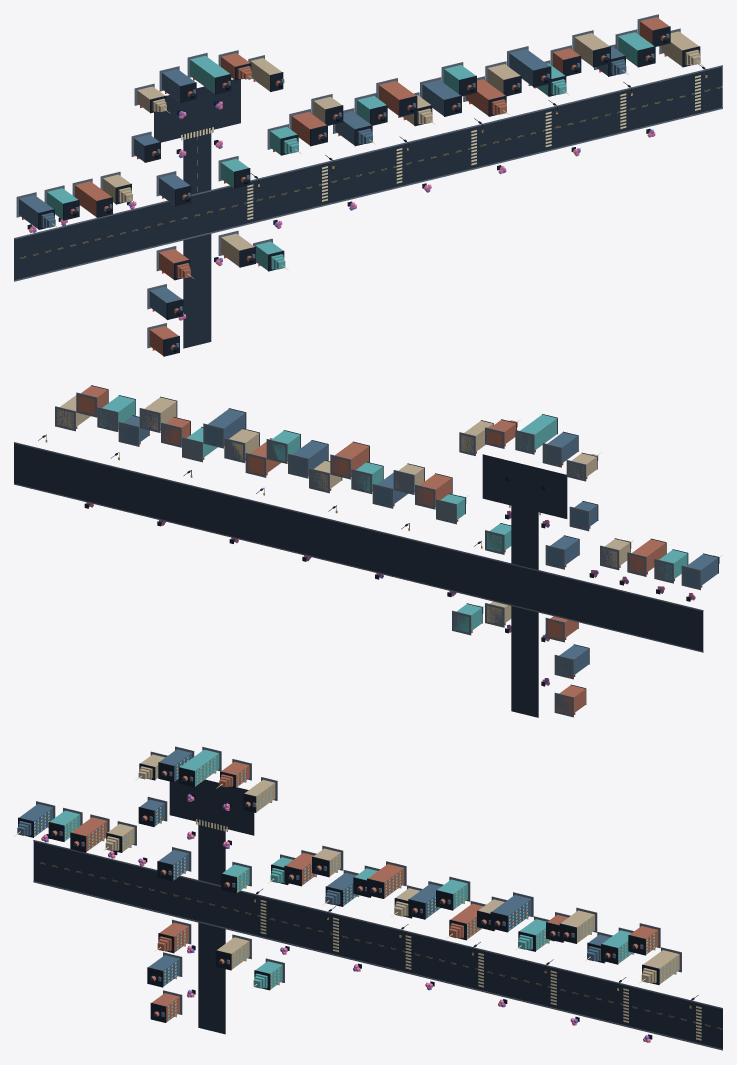
Rendered from manhattan.glb.
3 renders of one model, top to bottom at view 1: azimuth 30°, elevation 25°; view 2: azimuth 150°, elevation 25°; view 3: azimuth 330°, elevation 25°, orthographic. The views are drawn at different scales.
Visible parts, largest first — view 1: cel_road_avenue.004, cel_sidewalk_avenue.004, cel_cream_avenue.004, cel_brick_block 15.004, cel_stone_block 24.004, cel_blue_block 33.001, cel_blue_block 09.004, cel_teal_block 02.004, cel_blue_block 17.004, cel_blue_block 13.004, cel_brick_block 35.001, cel_brick_block 11.004 (+14 smaller); view 2: cel_road_avenue.004, cel_sidewalk_avenue.004, cel_blue_block 17.004, cel_blue_block 13.004, cel_brick_block 11.004, cel_teal_block 02.004, cel_brick_block 35.001, cel_blue_block 33.001, cel_brick_block 07.004, cel_blue_block 01.004, cel_blue_block 25.001, cel_blue_block 29.001 (+15 smaller); view 3: cel_road_avenue.004, cel_sidewalk_avenue.004, cel_cream_avenue.004, cel_stone_block 24.004, cel_blue_block 33.001, cel_teal_block 02.004, cel_blue_block 17.004, cel_brick_block 15.004, cel_blue_block 09.004, cel_brick_block 11.004, cel_brick_block 35.001, cel_brick_block 27.001 (+11 smaller).
Boxes of the visible parts, box(x1,y1,x2,y2) form: cel_road_avenue.004: box(14, 66, 722, 348); cel_sidewalk_avenue.004: box(14, 65, 722, 281); cel_cream_avenue.004: box(181, 75, 700, 219); cel_brick_block 15.004: box(466, 79, 506, 115); cel_stone_block 24.004: box(661, 31, 700, 66); cel_blue_block 33.001: box(19, 195, 55, 228); cel_blue_block 09.004: box(335, 111, 372, 144); cel_teal_block 02.004: box(190, 55, 229, 93); cel_blue_block 17.004: box(509, 49, 549, 86); cel_blue_block 13.004: box(422, 80, 460, 115); cel_brick_block 35.001: box(75, 181, 111, 216); cel_brick_block 11.004: box(379, 81, 415, 115); cel_road_avenue.004: box(14, 443, 703, 717); cel_sidewalk_avenue.004: box(14, 442, 703, 652); cel_blue_block 17.004: box(205, 409, 245, 445); cel_blue_block 13.004: box(290, 440, 327, 475); cel_brick_block 11.004: box(332, 442, 369, 476); cel_teal_block 02.004: box(517, 414, 557, 451); cel_brick_block 35.001: box(629, 539, 665, 574); cel_blue_block 33.001: box(683, 554, 719, 587); cel_brick_block 07.004: box(417, 474, 451, 506); cel_blue_block 01.004: box(544, 432, 577, 464); cel_blue_block 25.001: box(547, 536, 578, 566); cel_blue_block 29.001: box(556, 645, 588, 676); cel_road_avenue.004: box(33, 778, 722, 1048); cel_sidewalk_avenue.004: box(33, 840, 722, 1050); cel_cream_avenue.004: box(196, 819, 701, 1040); cel_stone_block 24.004: box(641, 950, 679, 983); cel_blue_block 33.001: box(17, 804, 52, 836); cel_teal_block 02.004: box(180, 749, 219, 786); cel_blue_block 17.004: box(492, 895, 531, 931); cel_brick_block 15.004: box(449, 903, 483, 939); cel_blue_block 09.004: box(325, 872, 357, 905); cel_brick_block 11.004: box(368, 864, 404, 898); cel_brick_block 35.001: box(71, 817, 107, 851); cel_brick_block 27.001: box(157, 922, 188, 952).
Size of the model in its own units: 228 by 89.15 by 20.02.
